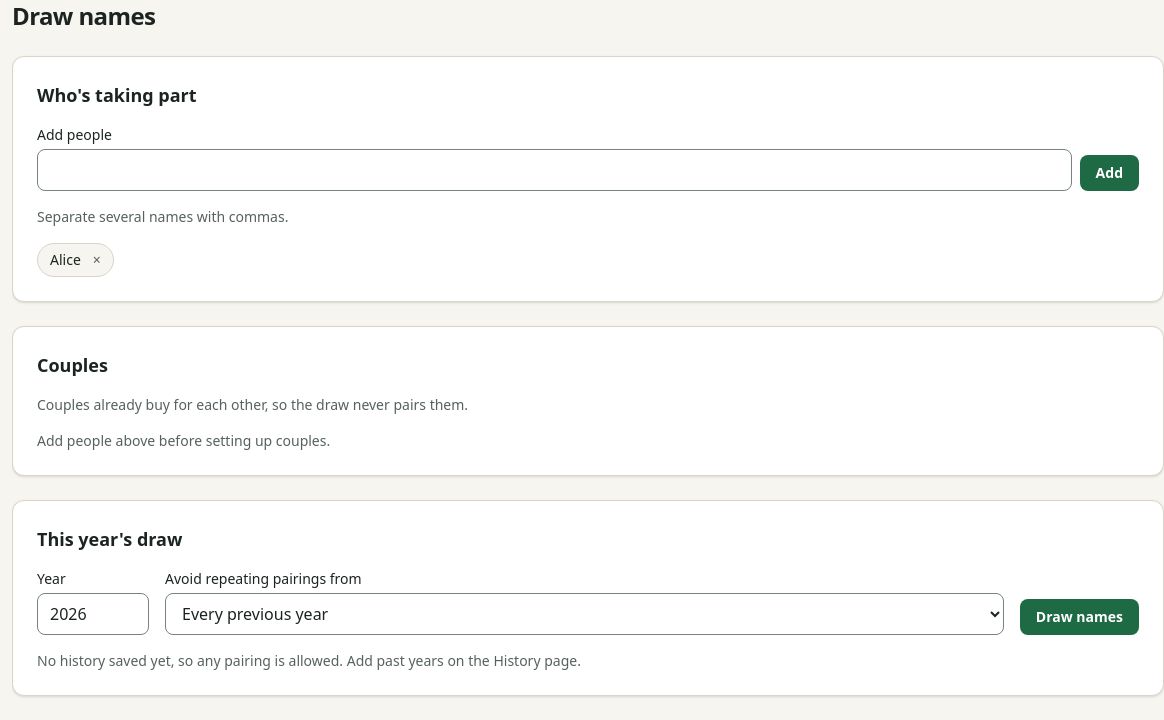
Scenario: DrawPanel › asks for more people when fewer than two are listed
Click the button "Draw names". click: coordinates (1079, 617)
box: [1020,599,1139,635]
(page scrolled)
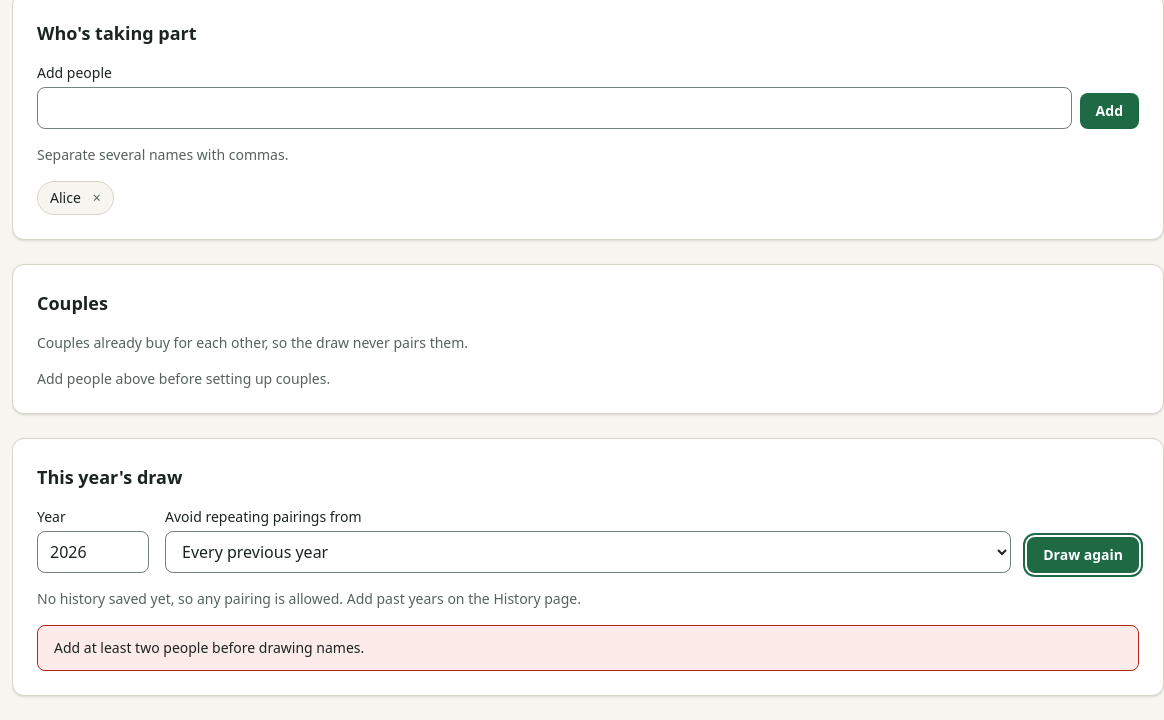
expect the message shows "at least two people": met, box [54,638,364,657]
